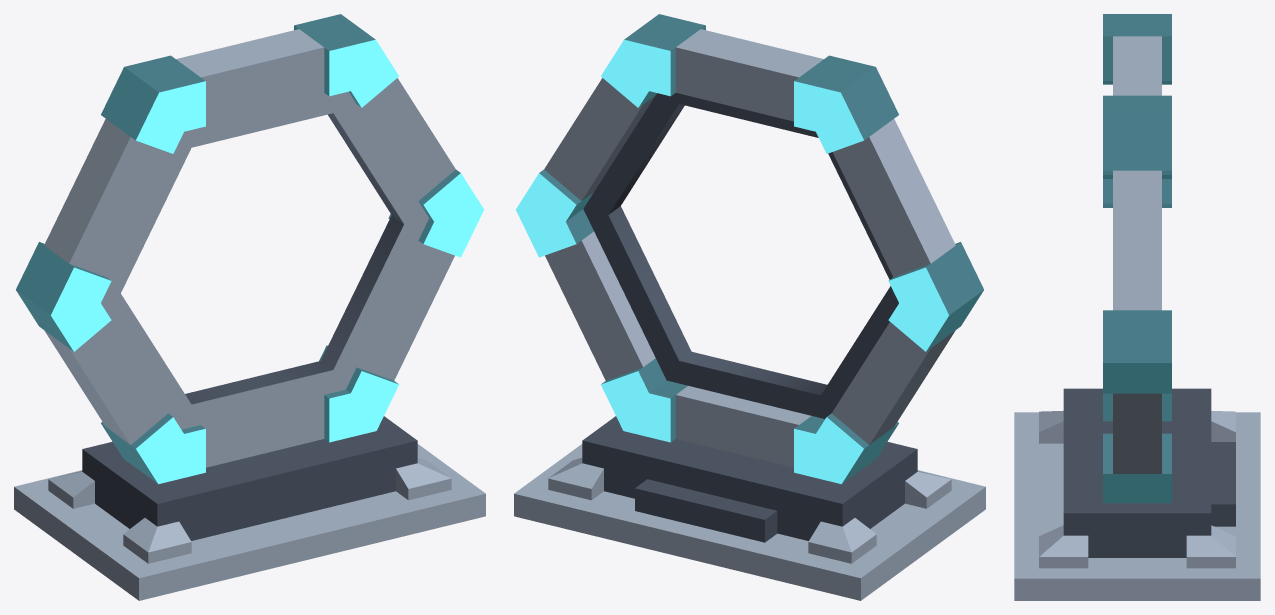
File: gate_complex.glb
3 renders of one model, left to right at view 1: azimuth 30°, elevation 25°; view 2: azimuth 150°, elevation 25°; view 3: azimuth 270°, elevation 25°, orthographic.
Visible parts, largest first — view 1: gate_complex; view 2: gate_complex; view 3: gate_complex.
Boxes of the visible parts, x1,y1,x2,y2 form: gate_complex: (14, 14, 485, 600); gate_complex: (514, 14, 985, 600); gate_complex: (1014, 14, 1260, 600).
Size of the model in its own units: 1 by 1.01 by 0.5.
